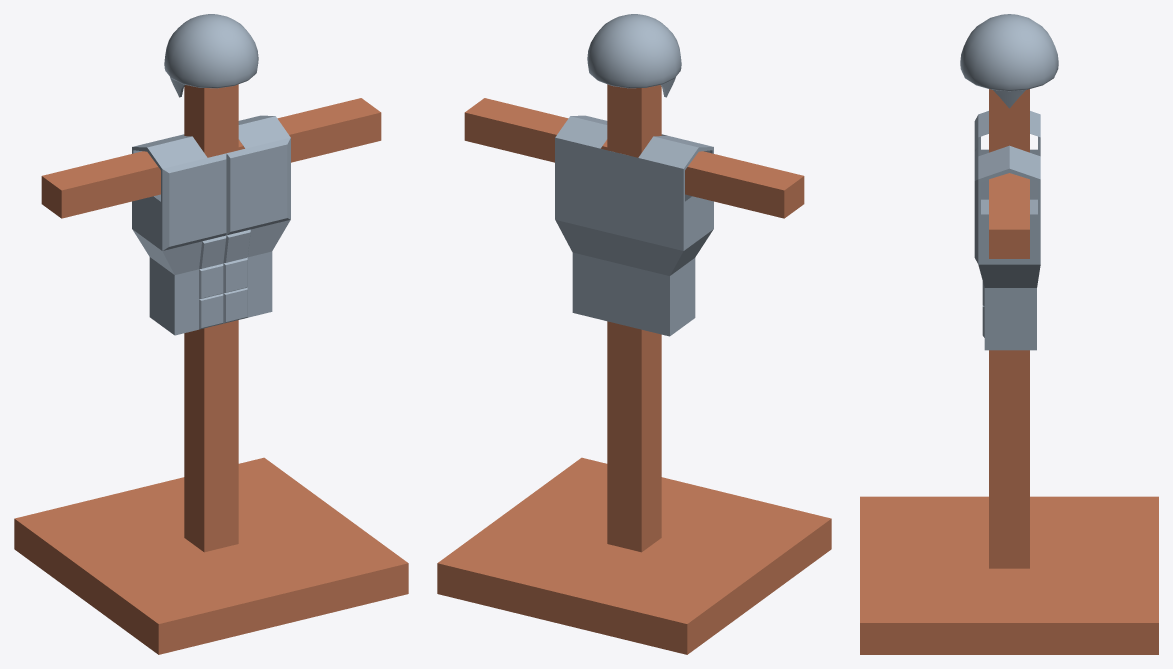
Rendered from ArmorStand.fbx.
3 views of the same model, side by side, from view 1: azimuth 30°, elevation 25°; view 2: azimuth 150°, elevation 25°; view 3: azimuth 270°, elevation 25° (orthographic). The views are drawn at different scales.
Parts seen in each view (by area): view 1: Sphere; view 2: Sphere; view 3: Sphere.
Part boxes in pixels (box(x1,y1,x2,y2)): Sphere: box(14, 14, 408, 654); Sphere: box(437, 14, 831, 654); Sphere: box(860, 14, 1158, 654).
Size of the model in its own units: 71.66 by 119 by 56.02.
Materials: 1 (1 with a texture image).
